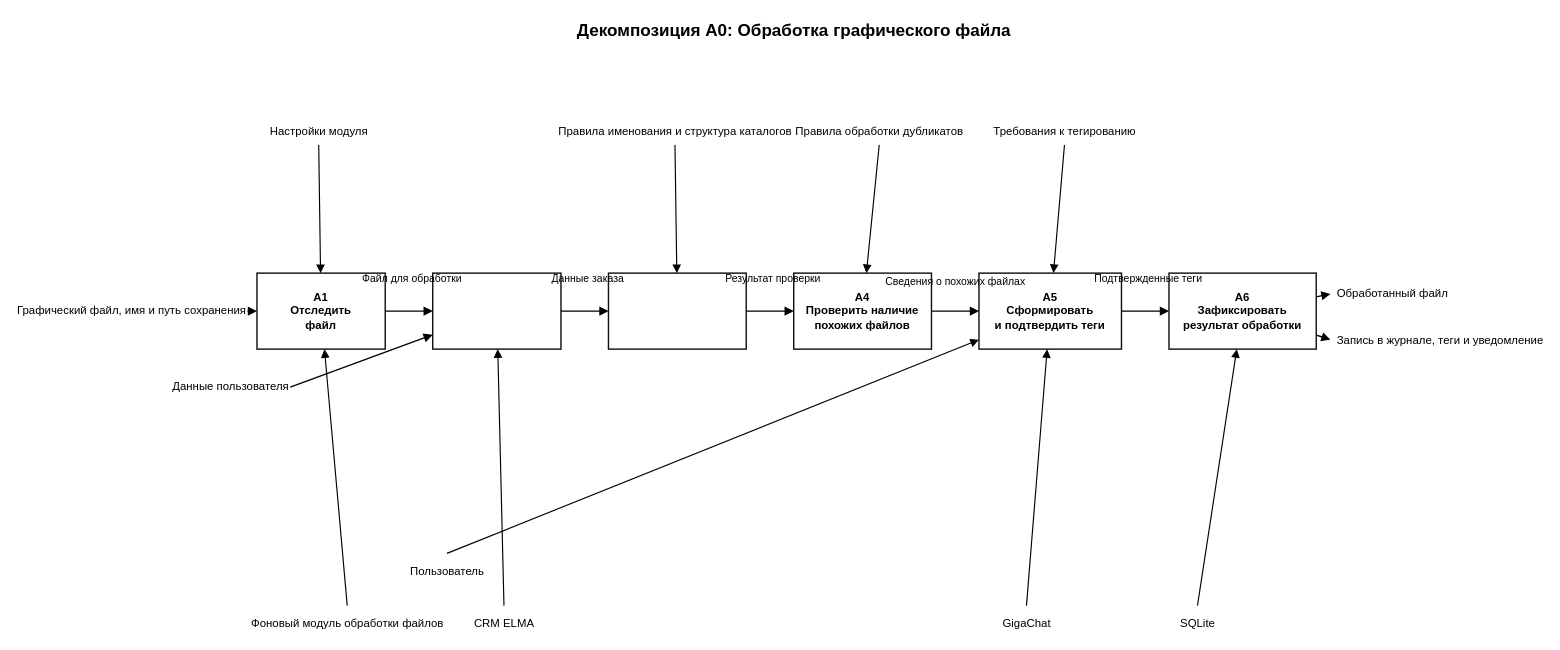
Image size: 1560x650. Some labels were removed from this diagram. The shapes that lost their labels are listed below. From the top down, each one's centre as x and y in pixels, then its label:
[496,310]: A2 Получить данные заказа
[677,310]: A3 Проверить имя и расположение
